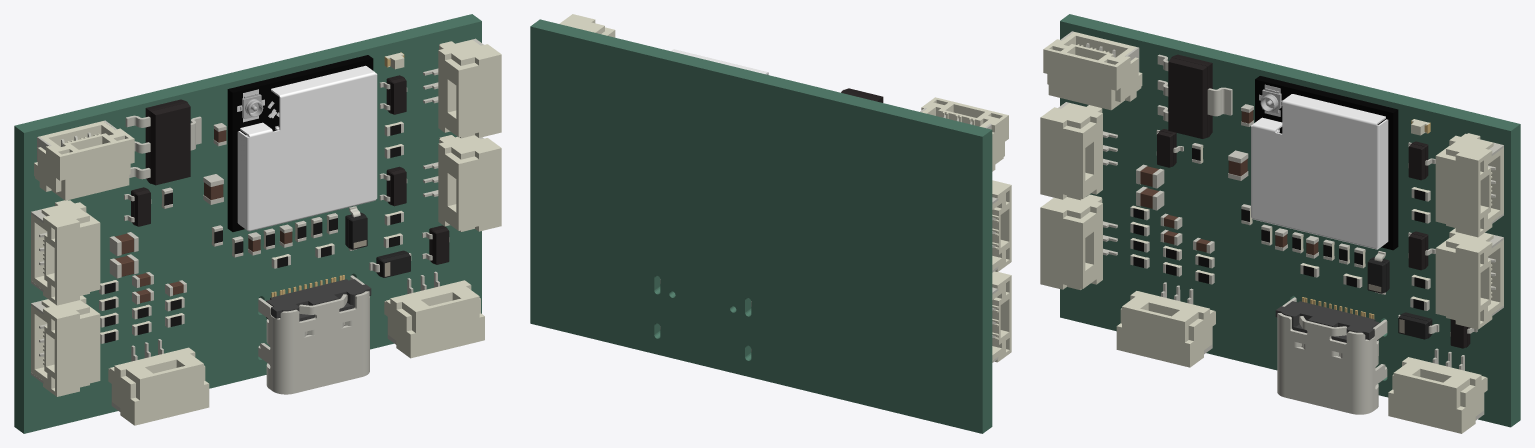
The model's file is board.glb.
The picture shows the model from 3 angles, left to right: view 1: azimuth 30°, elevation 25°; view 2: azimuth 150°, elevation 25°; view 3: azimuth 330°, elevation 25°; orthographic projection.
Visible parts, largest first — view 1: =>[0:1:1:22], =>[0:1:1:17]_dff056, =>[0:1:1:19]_04cba2, =>[0:1:1:5]_3_5f4e55, =>[0:1:1:5]_4, =>[0:1:1:5]_2_e9ea9c, =>[0:1:1:5]_2fec68, =>[0:1:1:5]_1_d88945, =>[0:1:1:5]_5_de7374, =>[0:1:1:5]_6_2ab46e, =>[0:1:1:17]_da4624, =>[0:1:1:21]_3ae3d2 (+9 smaller); view 2: =>[0:1:1:22], =>[0:1:1:5]_4, =>[0:1:1:5]_3_5f4e55, =>[0:1:1:5]_2fec68, =>[0:1:1:5]_2_e9ea9c; view 3: =>[0:1:1:22], =>[0:1:1:17]_dff056, =>[0:1:1:19]_04cba2, =>[0:1:1:5]_2_e9ea9c, =>[0:1:1:5]_4, =>[0:1:1:5]_5_de7374, =>[0:1:1:5]_3_5f4e55, =>[0:1:1:5]_1_d88945, =>[0:1:1:5]_6_2ab46e, =>[0:1:1:5]_2fec68, =>[0:1:1:17]_da4624, =>[0:1:1:21]_3ae3d2 (+9 smaller).
Boxes of the visible parts, left/top/right/bottom form: =>[0:1:1:22]: left=14, top=14, right=481, bottom=433; =>[0:1:1:17]_dff056: left=237, top=65, right=377, bottom=231; =>[0:1:1:19]_04cba2: left=258, top=275, right=369, bottom=394; =>[0:1:1:5]_3_5f4e55: left=31, top=200, right=100, bottom=305; =>[0:1:1:5]_4: left=34, top=121, right=134, bottom=200; =>[0:1:1:5]_2_e9ea9c: left=438, top=39, right=501, bottom=138; =>[0:1:1:5]_2fec68: left=31, top=295, right=100, bottom=396; =>[0:1:1:5]_1_d88945: left=108, top=347, right=209, bottom=425; =>[0:1:1:5]_5_de7374: left=438, top=135, right=501, bottom=231; =>[0:1:1:5]_6_2ab46e: left=384, top=280, right=484, bottom=358; =>[0:1:1:17]_da4624: left=227, top=55, right=373, bottom=231; =>[0:1:1:21]_3ae3d2: left=145, top=99, right=190, bottom=185; =>[0:1:1:22]: left=530, top=19, right=992, bottom=433; =>[0:1:1:5]_4: left=921, top=97, right=1008, bottom=171; =>[0:1:1:5]_3_5f4e55: left=992, top=180, right=1011, bottom=271; =>[0:1:1:5]_2fec68: left=992, top=271, right=1011, bottom=362; =>[0:1:1:5]_2_e9ea9c: left=559, top=14, right=615, bottom=37; =>[0:1:1:22]: left=1060, top=14, right=1520, bottom=427; =>[0:1:1:17]_dff056: left=1251, top=94, right=1388, bottom=249; =>[0:1:1:19]_04cba2: left=1277, top=297, right=1387, bottom=414; =>[0:1:1:5]_2_e9ea9c: left=1435, top=133, right=1503, bottom=237; =>[0:1:1:5]_4: left=1043, top=32, right=1142, bottom=110; =>[0:1:1:5]_5_de7374: left=1435, top=228, right=1503, bottom=329; =>[0:1:1:5]_3_5f4e55: left=1040, top=103, right=1102, bottom=200; =>[0:1:1:5]_1_d88945: left=1116, top=291, right=1215, bottom=367; =>[0:1:1:5]_6_2ab46e: left=1388, top=357, right=1487, bottom=433; =>[0:1:1:5]_2fec68: left=1040, top=194, right=1102, bottom=290; =>[0:1:1:17]_da4624: left=1255, top=76, right=1398, bottom=250; =>[0:1:1:21]_3ae3d2: left=1168, top=54, right=1212, bottom=138.
Size of the model in its own units: 43 by 27.48 by 5.89.
